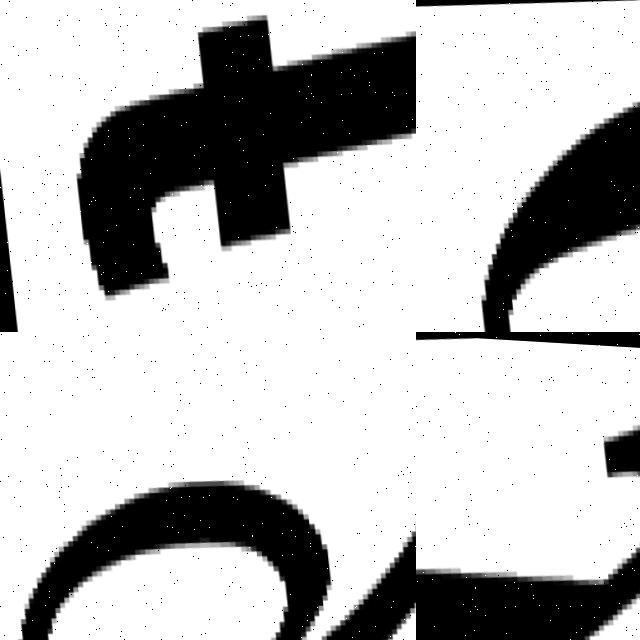9: (0, 396, 416, 640)
A: (440, 32, 640, 332)
F: (45, 0, 416, 322)
Y: (416, 378, 640, 640)
